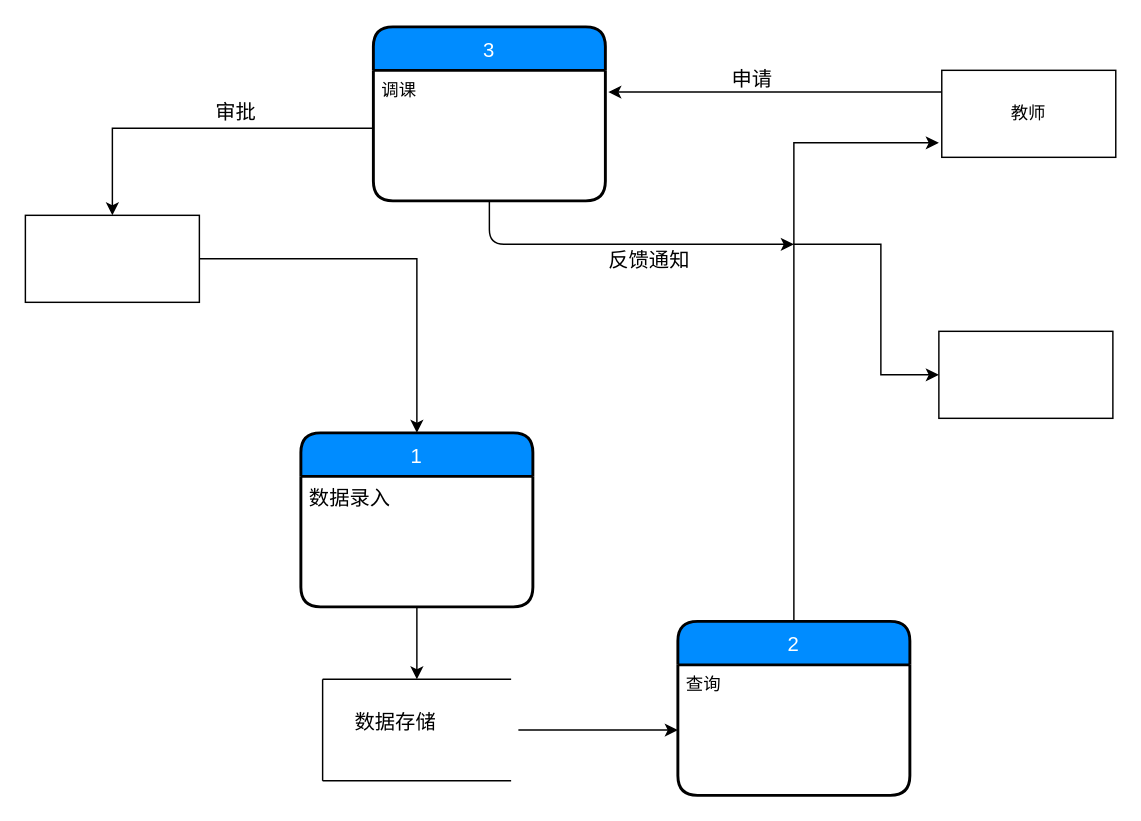
This 1141x821 diagram has some shape labels left out. Each missing label, with the centre of its shape:
学生: (x=1025, y=374)
管理员或教务系统: (x=111, y=258)
